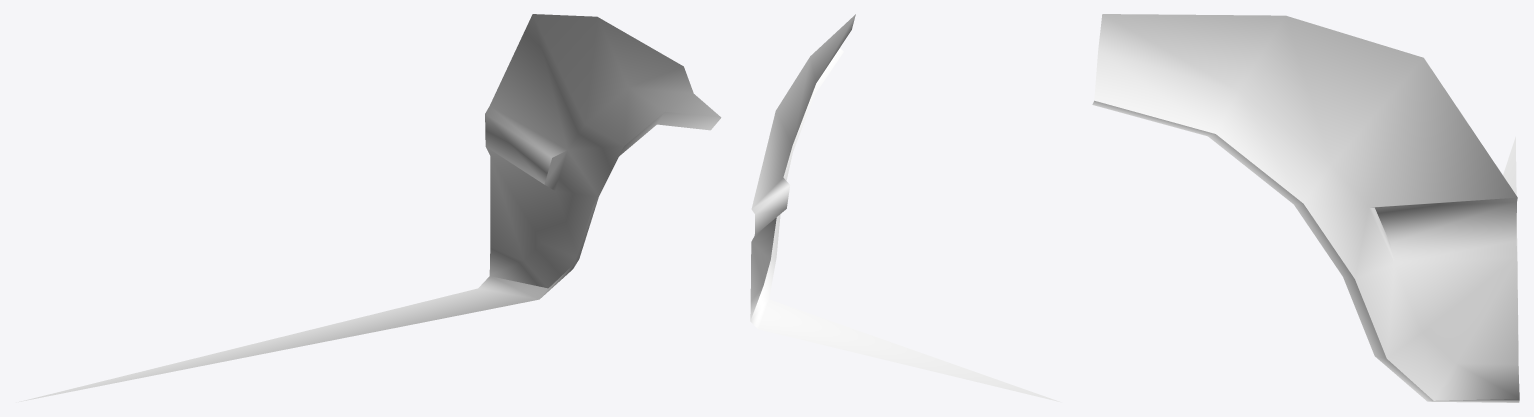
3 renders of one model, left to right at view 1: azimuth 30°, elevation 25°; view 2: azimuth 150°, elevation 25°; view 3: azimuth 270°, elevation 25°, orthographic. The views are drawn at different scales.
Size of the model in its own units: 0.6108 by 0.3817 by 0.365.
Materials: 1 (1 with a texture image).
